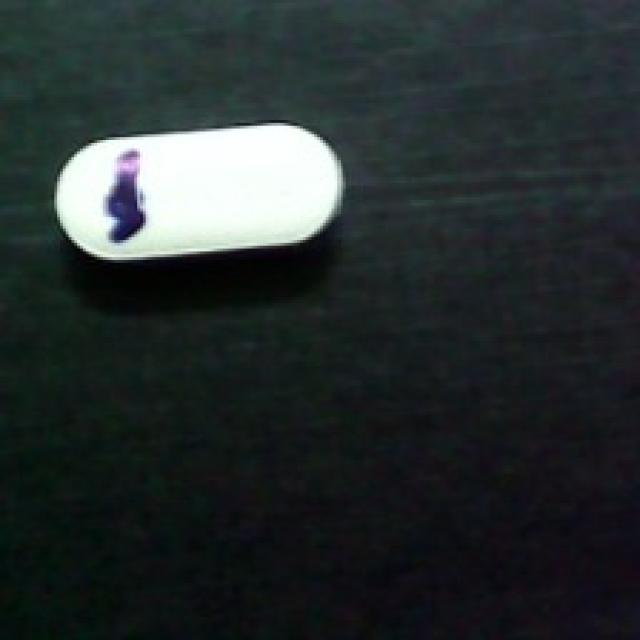defected: (46, 120, 349, 271)
